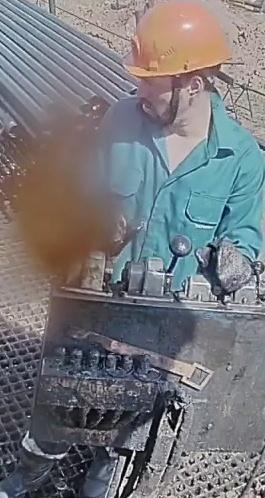gloves: (195, 235, 252, 295)
helmet: (123, 0, 231, 99)
vest: (96, 86, 264, 292)
